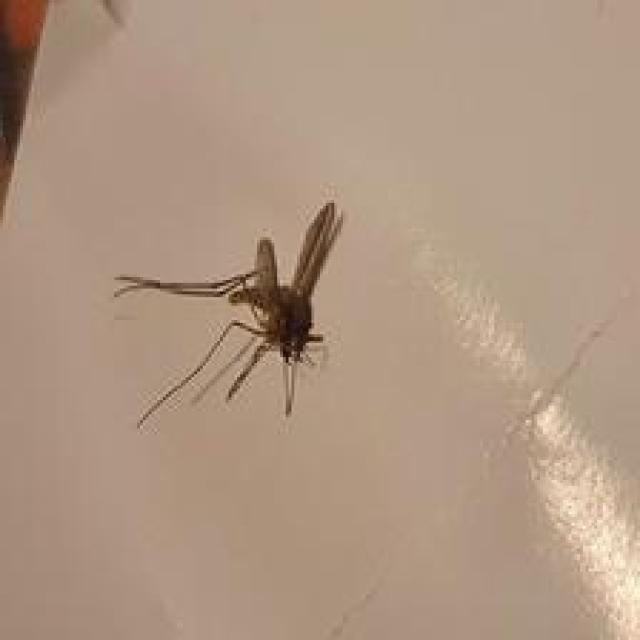Culex: (111, 199, 346, 430)
